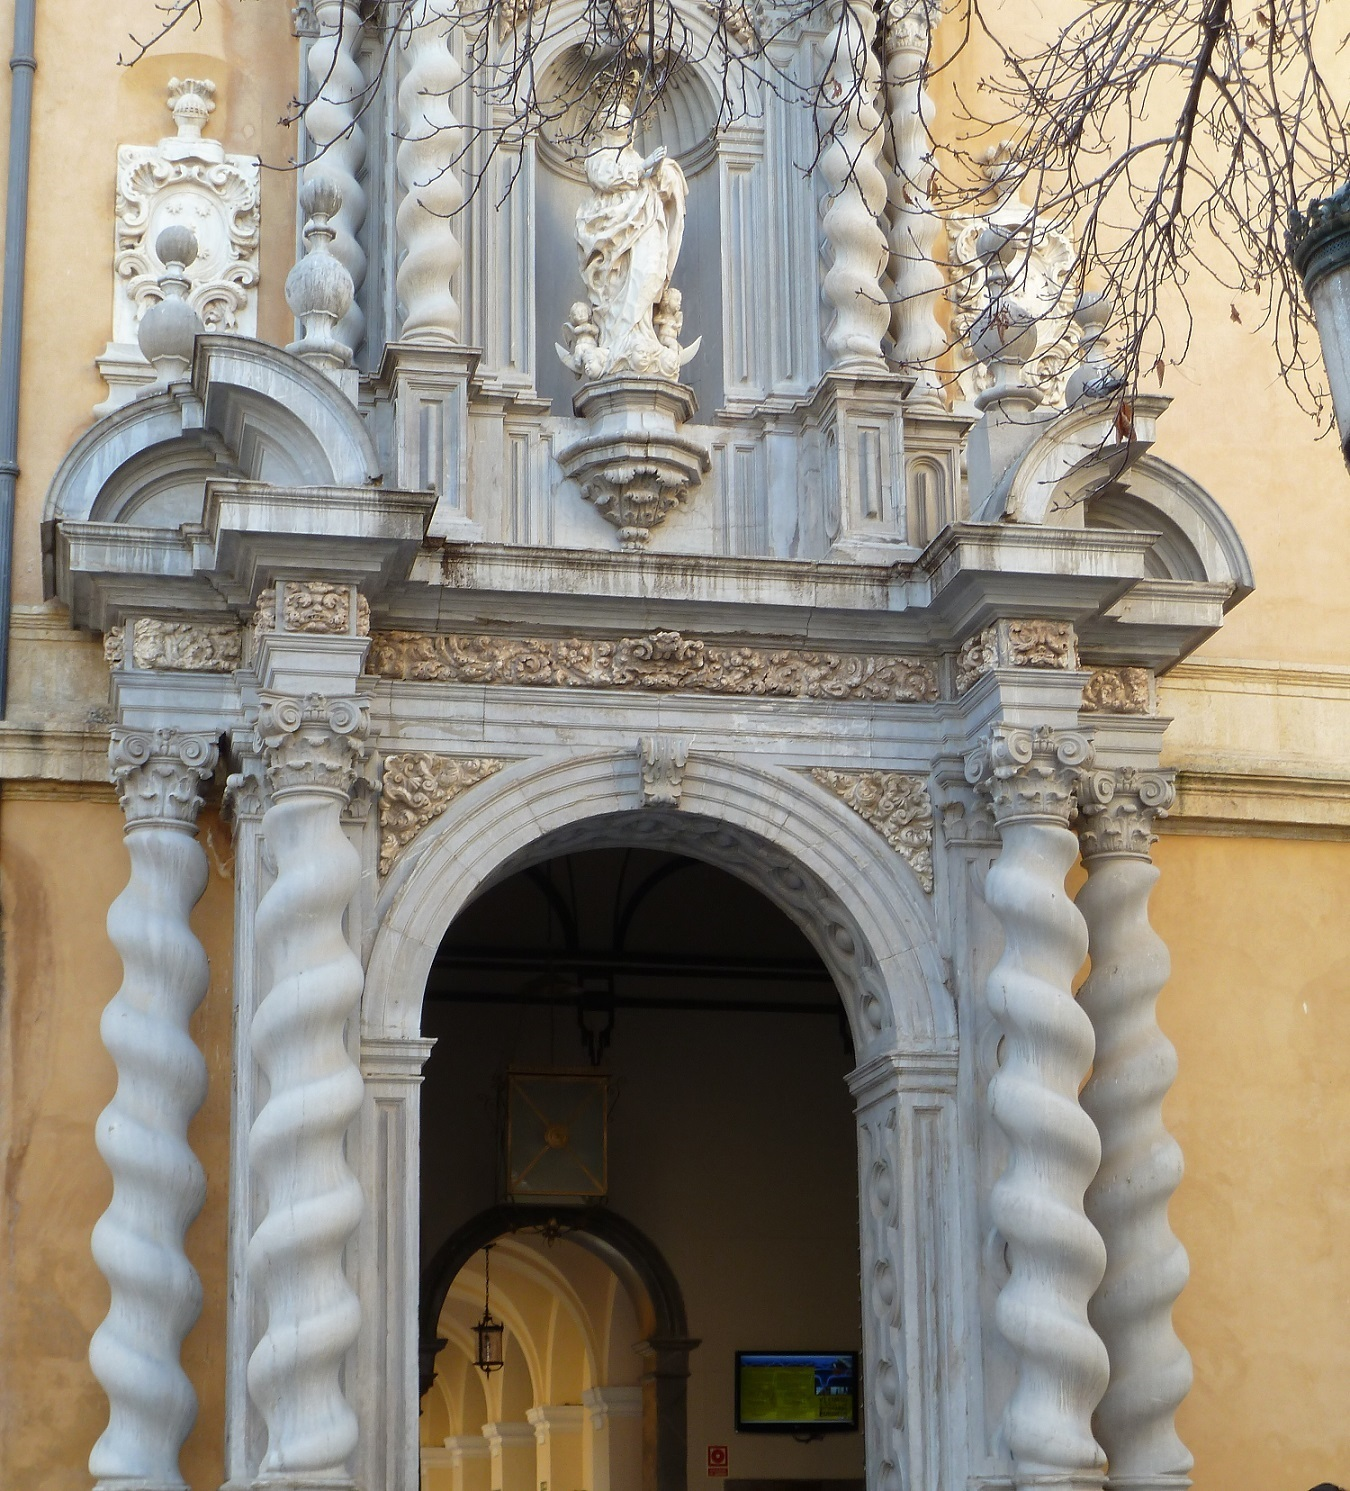arco-medio-punto: (382, 771, 937, 1127)
columna-salomonica: (225, 788, 379, 1491), (967, 810, 1116, 1491), (75, 792, 221, 1491), (1076, 843, 1204, 1491), (282, 1, 379, 386), (381, 1, 479, 366), (878, 1, 963, 410), (812, 1, 900, 388)
